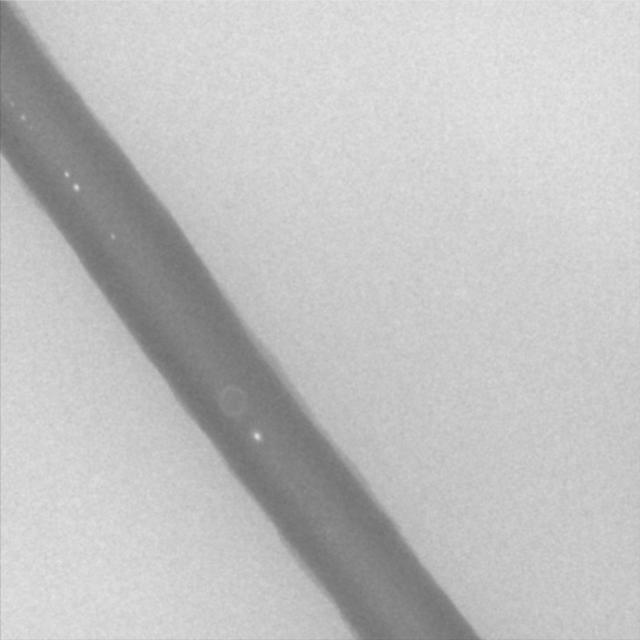air hole: (251, 429, 262, 443), (71, 182, 81, 194), (18, 113, 27, 123), (109, 232, 117, 242), (62, 169, 70, 178), (8, 97, 14, 106)
hollow bead: (217, 384, 249, 419)
